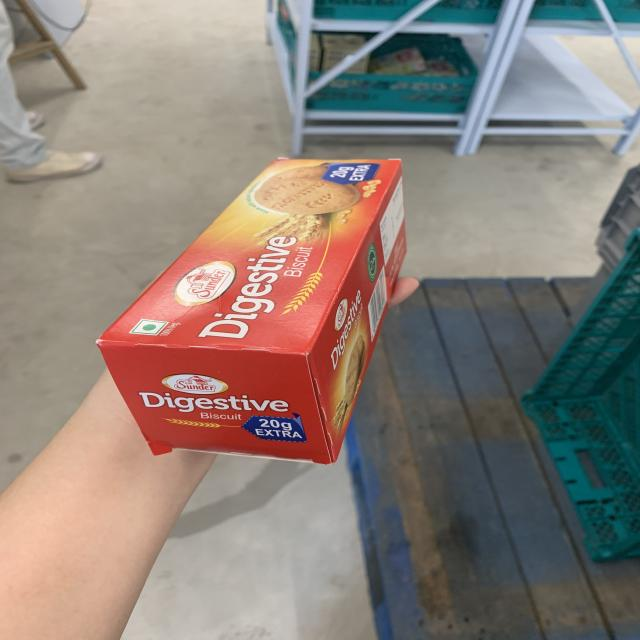object_name: (138, 148, 390, 451)
